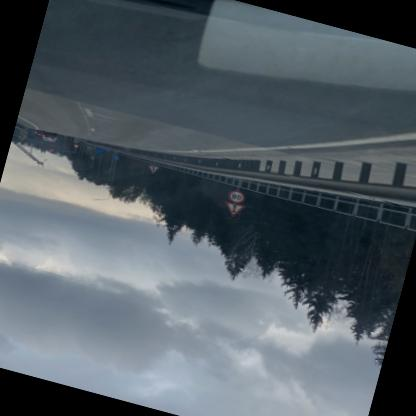speedlimit: (225, 191, 242, 205)
